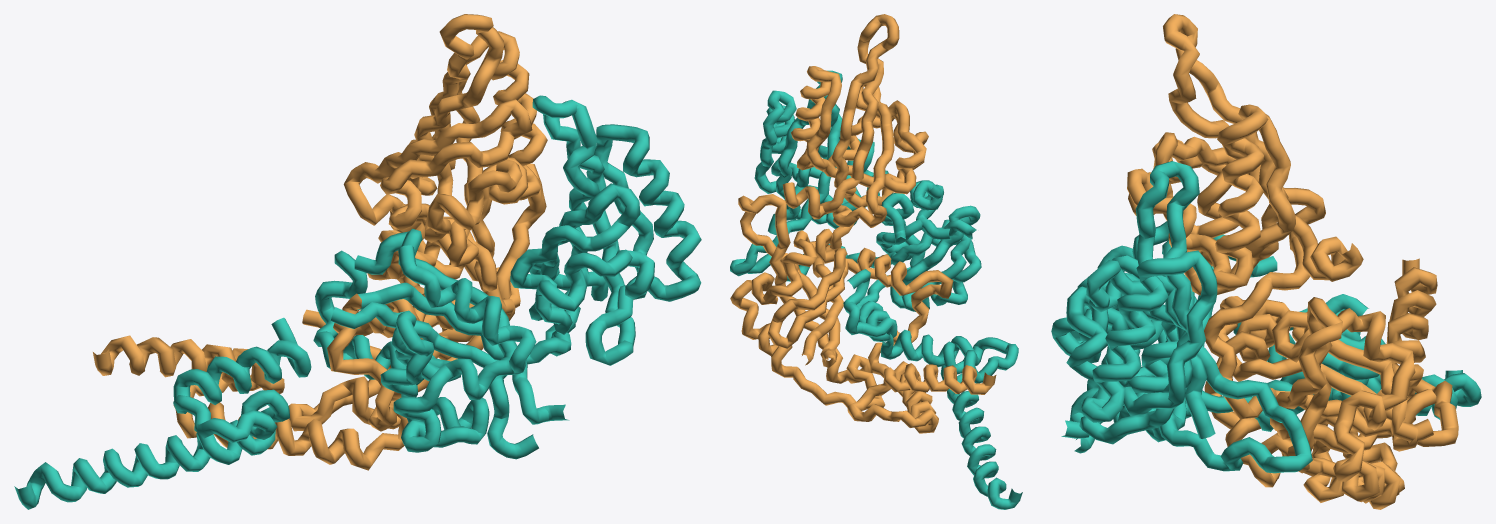
The model's file is clock-bmal-4f3l.glb.
3 views of the same model, side by side, from view 1: azimuth 30°, elevation 25°; view 2: azimuth 150°, elevation 25°; view 3: azimuth 270°, elevation 25° (orthographic). The views are drawn at different scales.
Parts seen in each view (by area): view 1: chain-B (×5), chain-A (×2); view 2: chain-A (×2), chain-B (×5); view 3: chain-A (×2), chain-B (×5).
Part boxes in pixels (bbox=[...]): chain-B (×5): bbox=[14, 95, 701, 509]; chain-A (×2): bbox=[93, 14, 547, 470]; chain-A (×2): bbox=[730, 14, 996, 433]; chain-B (×5): bbox=[730, 70, 1022, 509]; chain-A (×2): bbox=[1127, 14, 1458, 509]; chain-B (×5): bbox=[1051, 161, 1481, 473].
Size of the model in its own units: 3.25 by 3.1 by 2.22.
